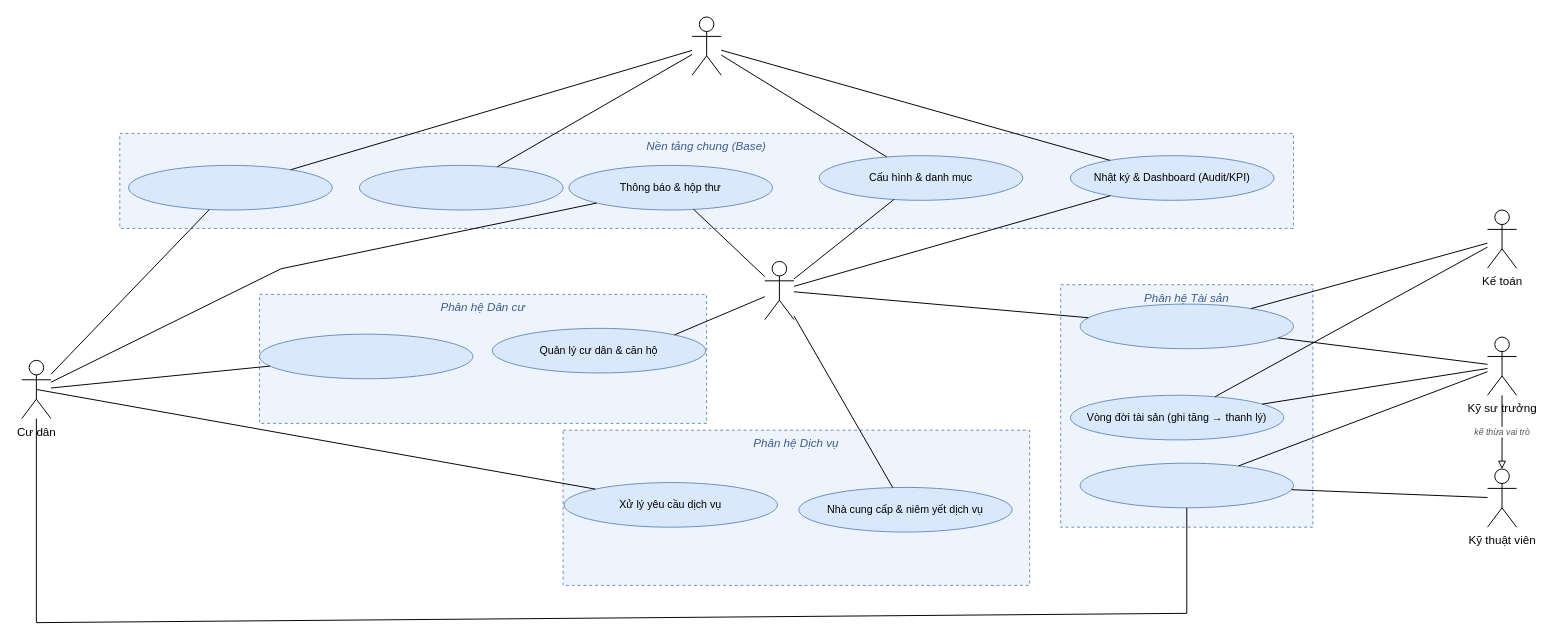
The diagram is 1553 pixels wide and 641 high, and some of its shapes have lost their labels. Each missing label, with the centre of its shape:
"Ban quản lý" belongs at (779,290).
"Bảo trì & Sự cố (WO / SLA)" belongs at (1186,485).
"Kiểm soát ra vào (nhận diện khuôn mặt)" belongs at (366,356).
"Mua sắm & Kho (PR → PO)" belongs at (1186,326).
"Quản lý người dùng & định danh" belongs at (460,187).
"Quản trị viên" belongs at (706,45).
"Xác thực & phân quyền (RBAC)" belongs at (230,187).
